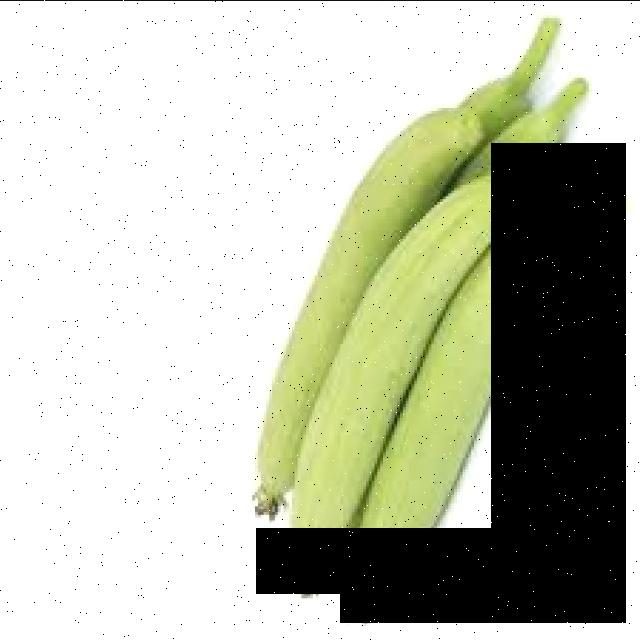Sponge_Gourd: (340, 143, 626, 623), (214, 61, 491, 528), (265, 176, 535, 594)
